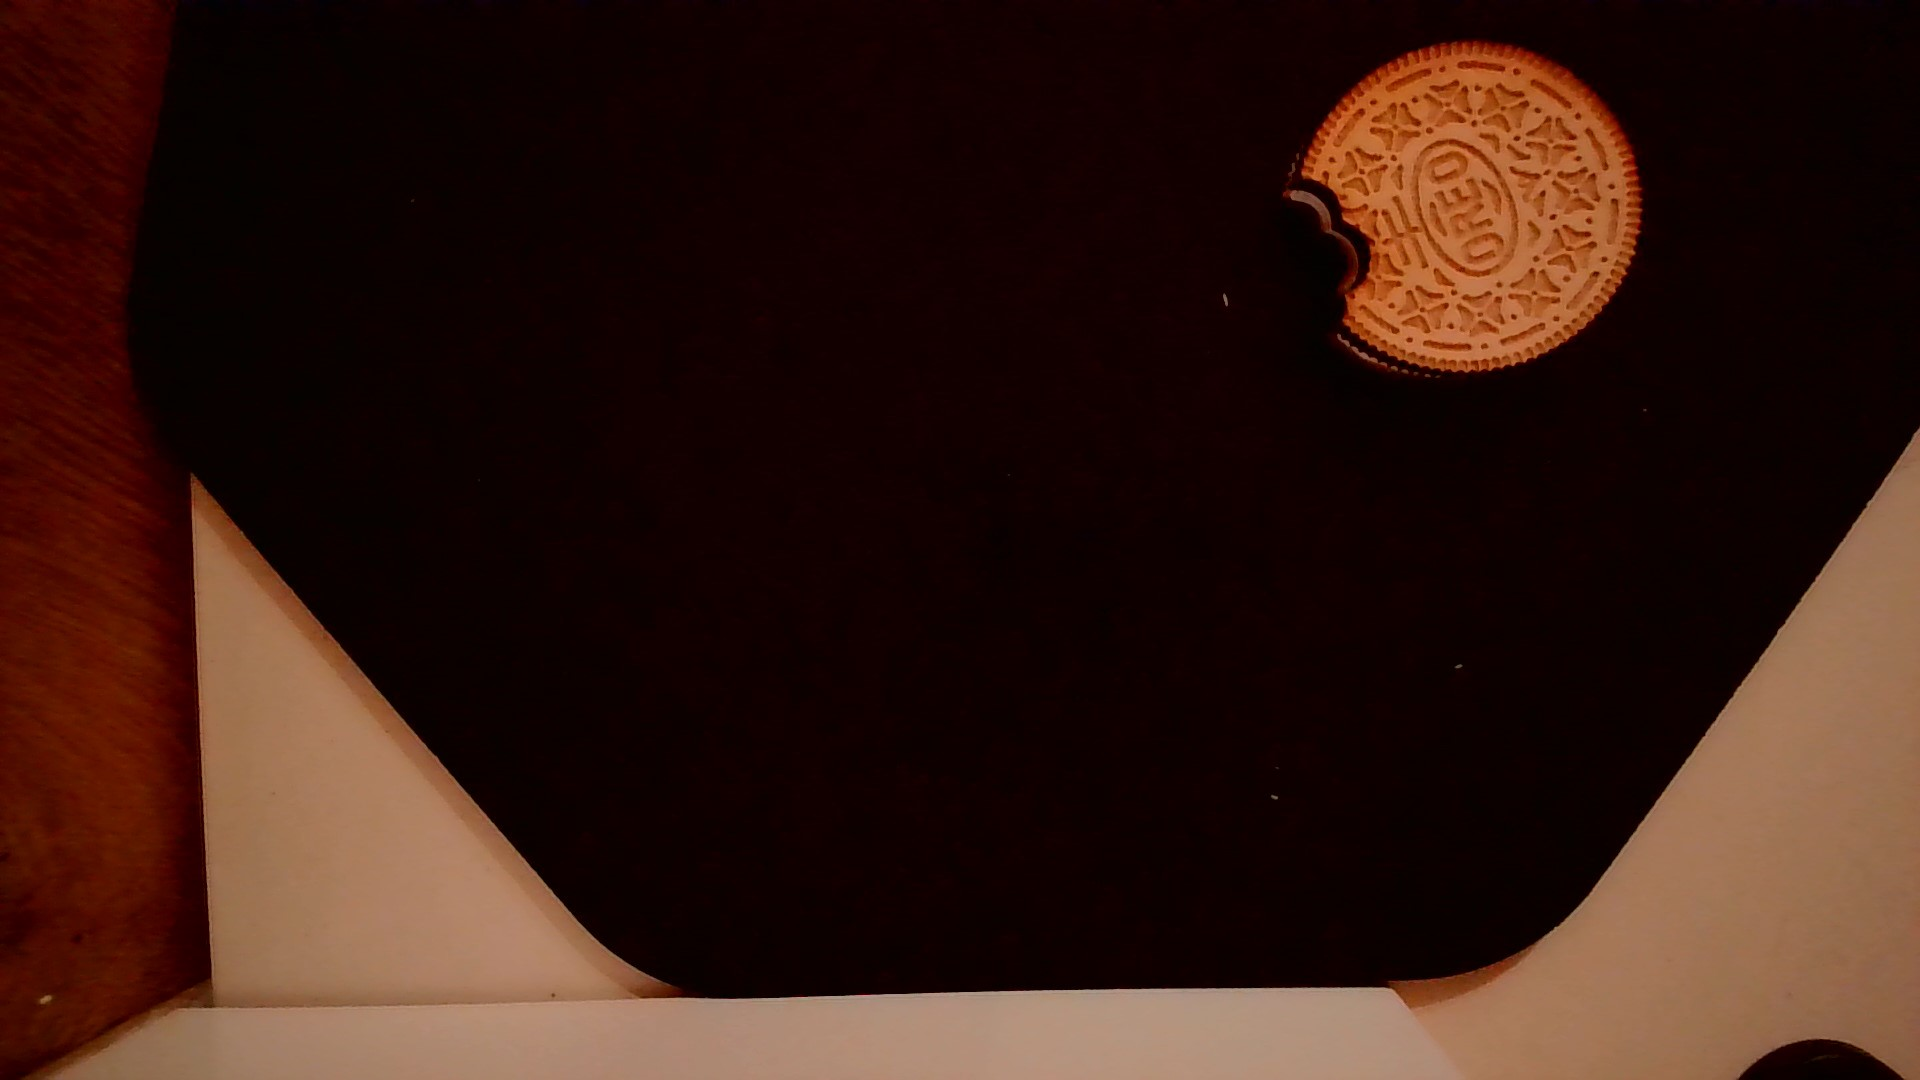Mangé: (1261, 170, 1389, 352)
Oréo: (1283, 34, 1652, 393)
